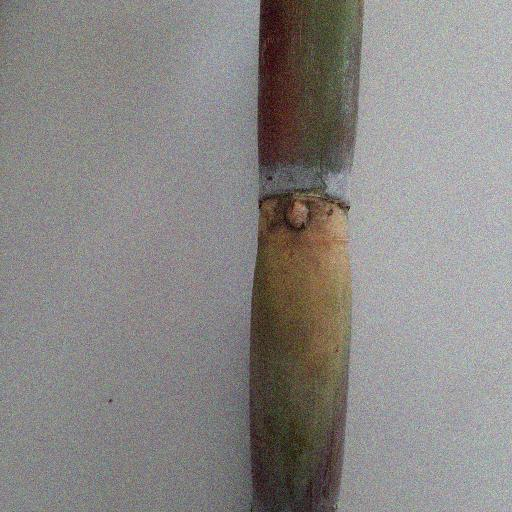Bud: (281, 196, 309, 232)
